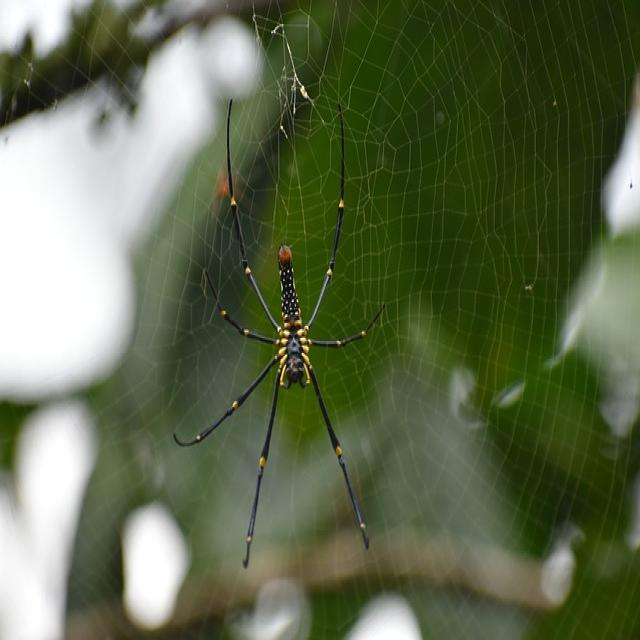spyder: (174, 102, 384, 568)
